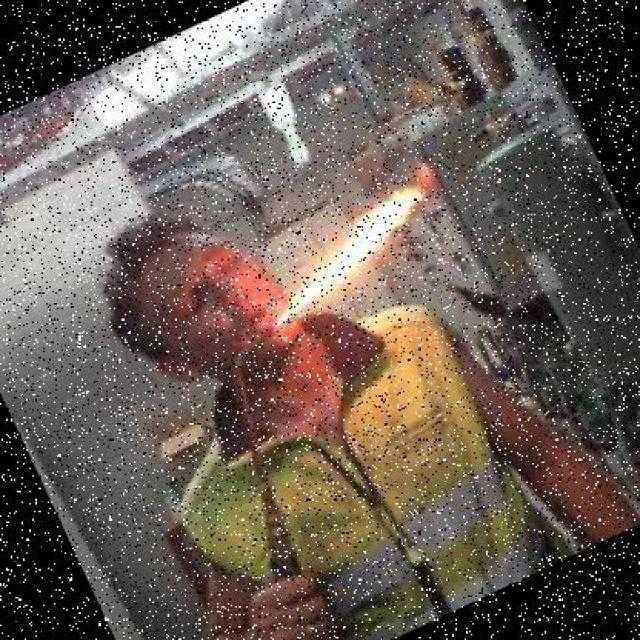fire: (231, 169, 460, 337)
